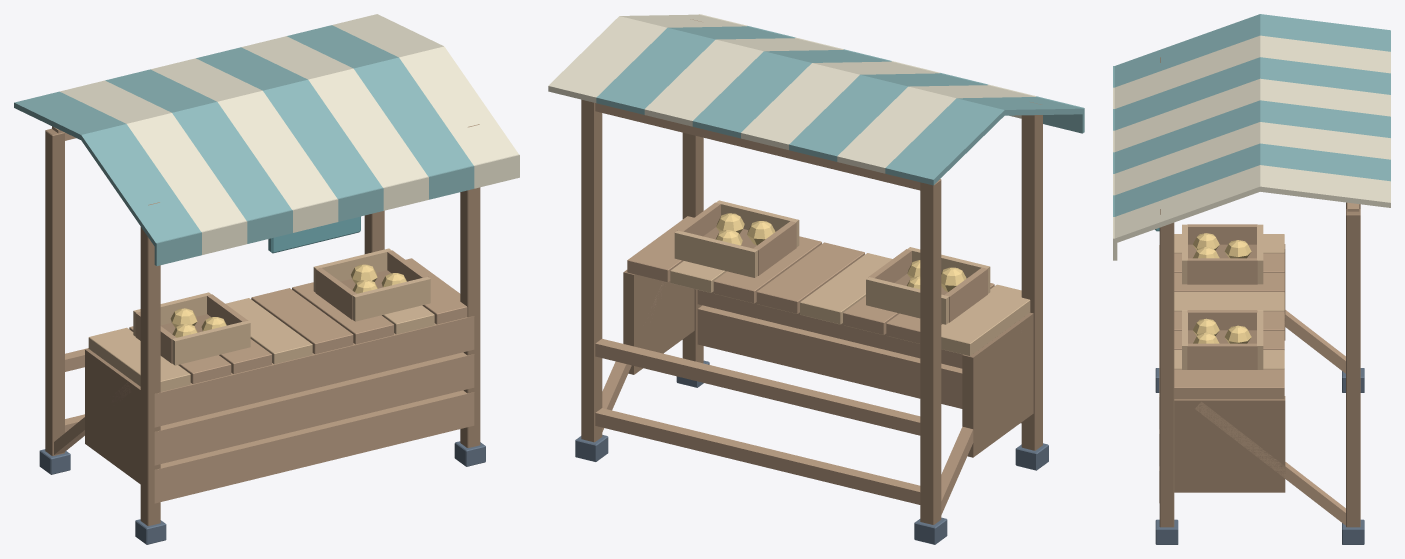
Rendered from a-low-poly-supermarket-called-lantern-supply-510-lib.glb.
3 views of the same model, side by side, from view 1: azimuth 30°, elevation 25°; view 2: azimuth 150°, elevation 25°; view 3: azimuth 270°, elevation 25° (orthographic). The views are drawn at different scales.
Parts seen in each view (by area): view 1: stall_front_board, stall_front_board.001, stall_front_board.002, stall_canopy_strip, stall_canopy_strip.006, stall_canopy_strip.005, stall_canopy_strip.002, stall_canopy_strip.001, stall_canopy_strip.003, stall_canopy_strip.007, stall_canopy_strip.004, stall_post.001 (+32 smaller); view 2: stall_front_board, stall_post.001, stall_counter_end, stall_post.003, stall_back_tie.001, stall_back_tie, stall_canopy_strip, stall_post, stall_canopy_strip.006, stall_canopy_strip.002, stall_canopy_strip.005, stall_canopy_strip.007 (+29 smaller); view 3: stall_counter_end.001, stall_canopy_strip.007, stall_canopy_strip, stall_canopy_strip.006, stall_canopy_strip.002, stall_canopy_strip.001, stall_canopy_strip.003, stall_canopy_strip.005, stall_canopy_strip.004, stall_post.002, stall_post.003, stall_counter_board.007 (+22 smaller).
Boxes of the visible parts, x1,y1,x2,y2 form: stall_front_board: (154, 390, 474, 503); stall_front_board.001: (154, 352, 474, 465); stall_front_board.002: (154, 316, 474, 427); stall_canopy_strip: (14, 91, 201, 249); stall_canopy_strip.006: (287, 25, 474, 182); stall_canopy_strip.005: (241, 36, 428, 193); stall_canopy_strip.002: (105, 69, 292, 226); stall_canopy_strip.001: (60, 80, 247, 238); stall_canopy_strip.003: (151, 58, 338, 216); stall_canopy_strip.007: (332, 14, 519, 171); stall_canopy_strip.004: (196, 47, 383, 204); stall_post.001: (45, 128, 64, 455); stall_front_board: (697, 305, 1021, 423); stall_post.001: (920, 179, 941, 524); stall_counter_end: (962, 312, 1033, 457); stall_post.003: (581, 99, 602, 442); stall_back_tie.001: (595, 338, 920, 435); stall_back_tie: (595, 408, 920, 504); stall_canopy_strip: (885, 97, 1084, 185); stall_post: (1021, 102, 1042, 450); stall_canopy_strip.006: (596, 26, 794, 114); stall_canopy_strip.002: (789, 73, 987, 161); stall_canopy_strip.005: (644, 38, 842, 126); stall_canopy_strip.007: (548, 14, 745, 102); stall_counter_end.001: (1174, 396, 1285, 492); stall_canopy_strip.007: (1113, 165, 1390, 243); stall_canopy_strip: (1114, 14, 1390, 87); stall_canopy_strip.006: (1114, 143, 1390, 216); stall_canopy_strip.002: (1114, 57, 1390, 130); stall_canopy_strip.001: (1114, 35, 1390, 108); stall_canopy_strip.003: (1114, 78, 1390, 151); stall_canopy_strip.005: (1114, 122, 1390, 195); stall_canopy_strip.004: (1114, 100, 1390, 173); stall_post.002: (1159, 209, 1174, 527); stall_post.003: (1346, 209, 1360, 527); stall_counter_board.007: (1174, 369, 1284, 398).
Bounding box in the file's own units: 2.5 × 2.46 × 1.7.
